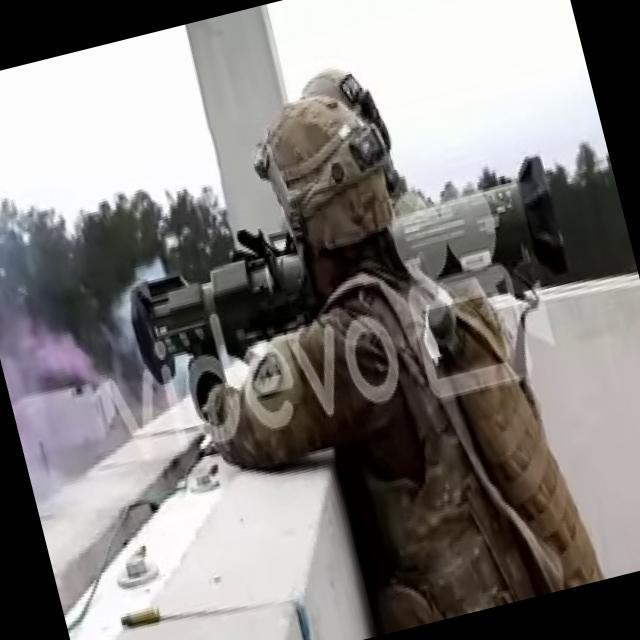rocket: (115, 154, 570, 389)
